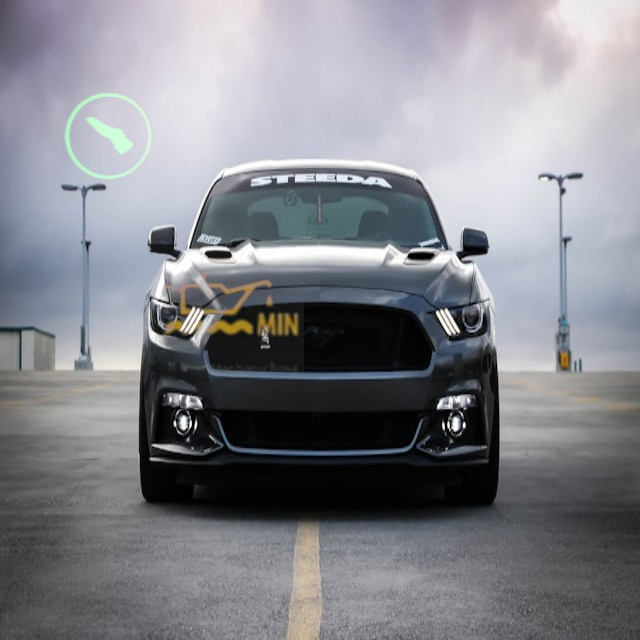symbol: (25, 50, 200, 225), (150, 227, 304, 381)
